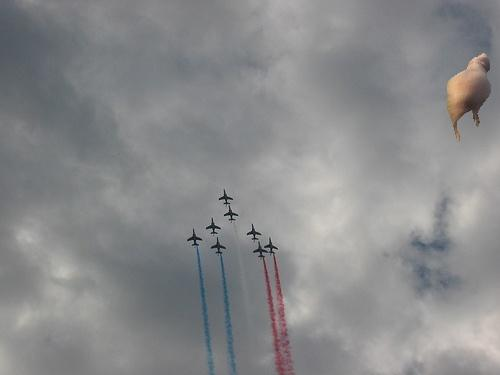tampered: (448, 54, 491, 142)
